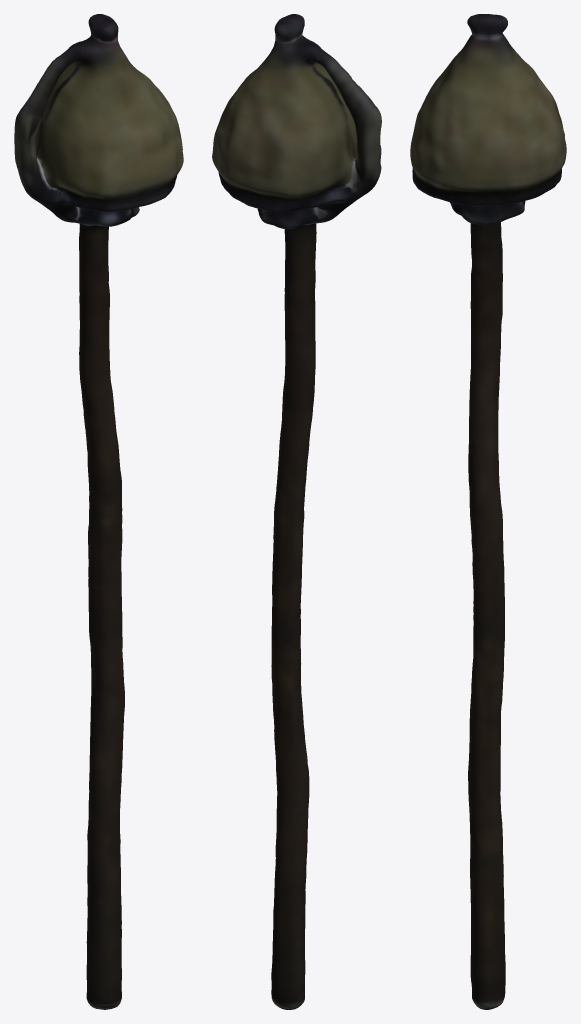
Rendered from lamp.glb.
3 renders of one model, left to right at view 1: azimuth 30°, elevation 25°; view 2: azimuth 150°, elevation 25°; view 3: azimuth 270°, elevation 25°, orthographic.
Parts seen in each view (by area): view 1: world; view 2: world; view 3: world.
Part boxes in pixels (box(x1,y1,x2,y2)): world: box(14, 14, 183, 1009); world: box(212, 14, 381, 1009); world: box(410, 14, 566, 1009).
Bounding box in the file's own units: 0.0965 × 0.5984 × 0.0855.
Materials: 1 (1 with a texture image).
